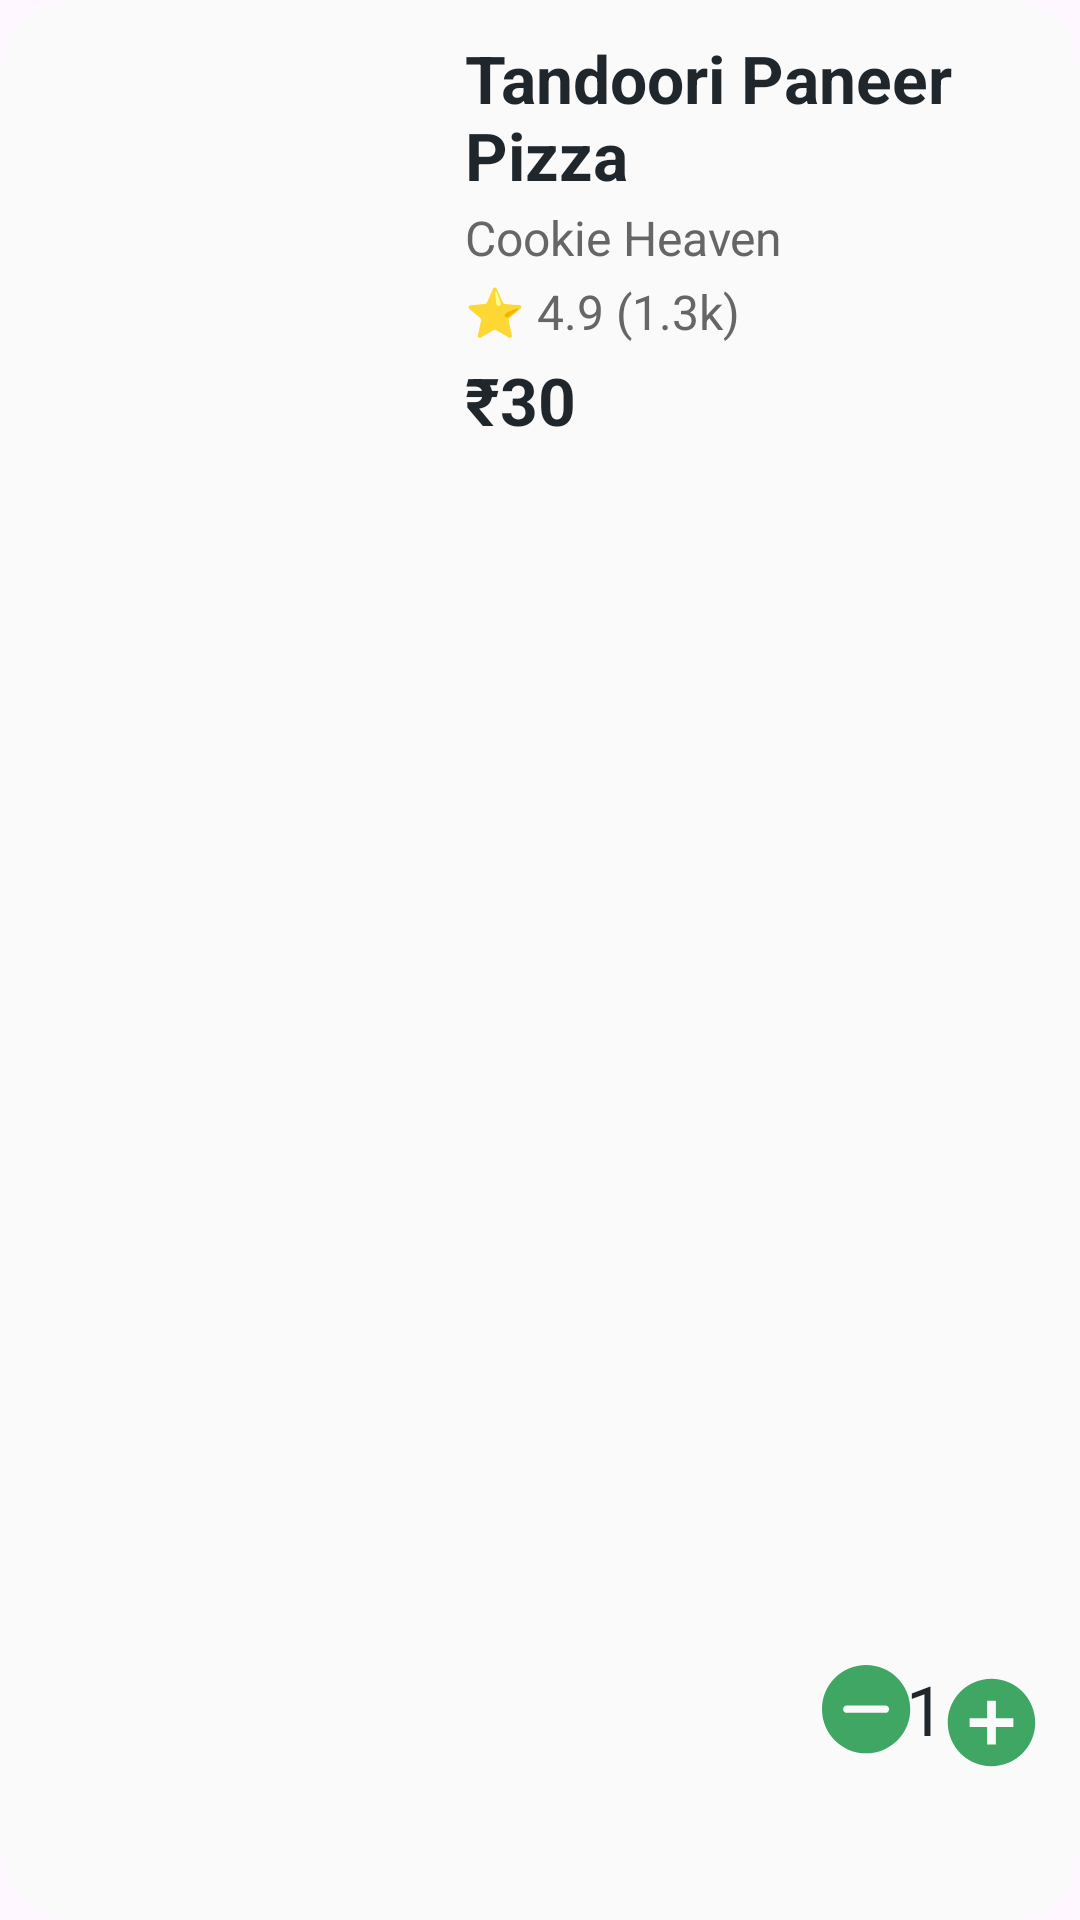

Named icons in this screenshot (1080w x 1920h) and their bounding boxes, (x1, y1, x2, y2):
add circle: (947, 1678, 1036, 1767)
minus: (822, 1665, 911, 1754)
